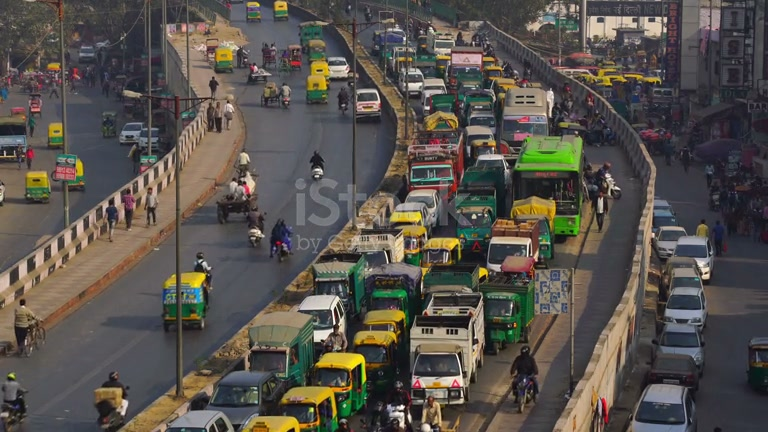bus: (409, 285, 486, 384), (513, 134, 584, 238), (244, 309, 316, 389), (350, 308, 406, 397), (305, 352, 369, 421), (410, 110, 465, 180), (498, 86, 549, 151), (463, 153, 514, 216), (407, 148, 458, 199), (445, 46, 484, 95), (322, 23, 356, 79), (0, 115, 28, 163)
car: (206, 370, 282, 428), (410, 345, 470, 407), (628, 381, 699, 432), (295, 293, 349, 356), (275, 385, 341, 432), (161, 271, 212, 331), (651, 323, 707, 377), (657, 255, 707, 301), (662, 282, 708, 330), (648, 352, 703, 391), (671, 236, 716, 283), (160, 409, 237, 432), (651, 225, 688, 262), (51, 153, 85, 190), (746, 335, 768, 392), (239, 416, 302, 432), (24, 170, 52, 203), (355, 88, 382, 120), (119, 122, 145, 145), (247, 66, 270, 83)
motorcycle: (511, 374, 538, 413)
pedestrian: (510, 346, 539, 393), (13, 297, 36, 354), (1, 371, 28, 416), (421, 396, 442, 432), (122, 189, 136, 231), (145, 187, 159, 227), (105, 200, 118, 239), (695, 219, 710, 238), (208, 76, 219, 99)
truck: (320, 24, 355, 78), (746, 335, 768, 392)
